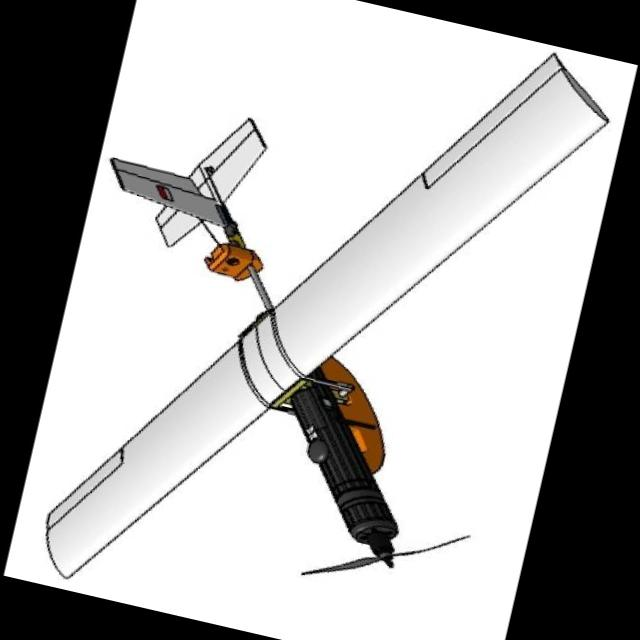UAV: (32, 81, 556, 638)
